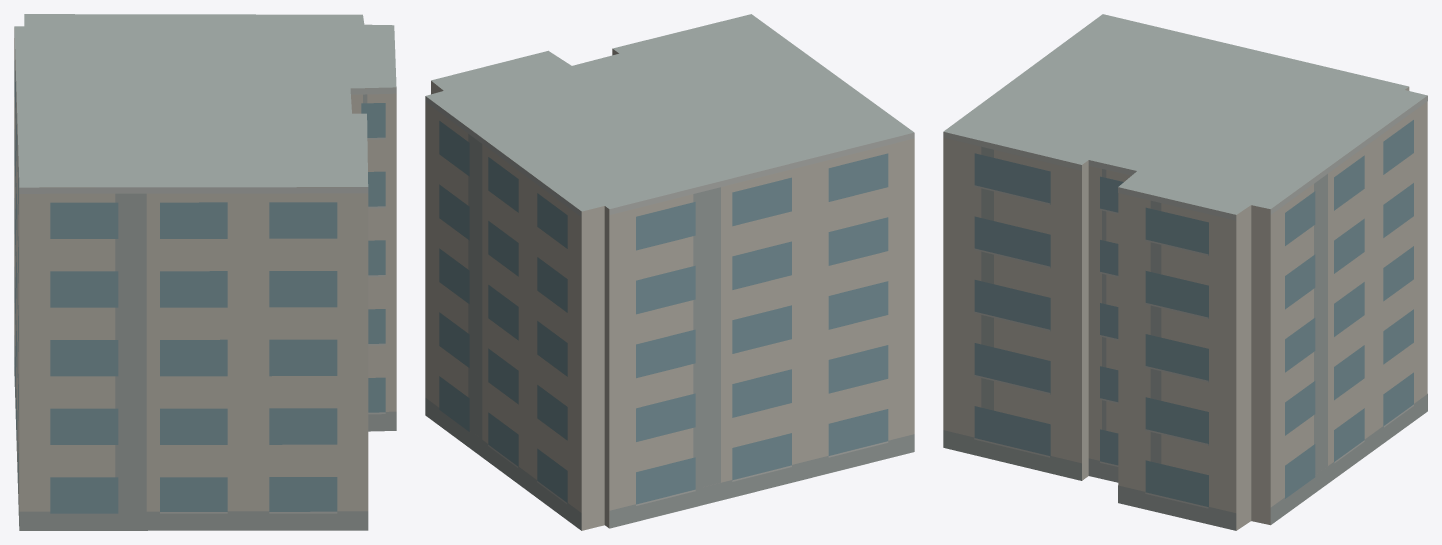
The model's file is survey-upis-32478138.glb.
The picture shows the model from 3 angles, left to right: view 1: azimuth 30°, elevation 25°; view 2: azimuth 150°, elevation 25°; view 3: azimuth 270°, elevation 25°; orthographic projection. The views are drawn at different scales.
Parts seen in each view (by area): view 1: survey-upis-32478138.tmp; view 2: survey-upis-32478138.tmp; view 3: survey-upis-32478138.tmp.
Boxes of the visible parts, box(x1,y1,x2,y2) form: survey-upis-32478138.tmp: box(14, 14, 396, 530); survey-upis-32478138.tmp: box(425, 14, 914, 530); survey-upis-32478138.tmp: box(943, 14, 1427, 530).
Bounding box in the file's own units: 17.94 × 13.15 × 18.28.
